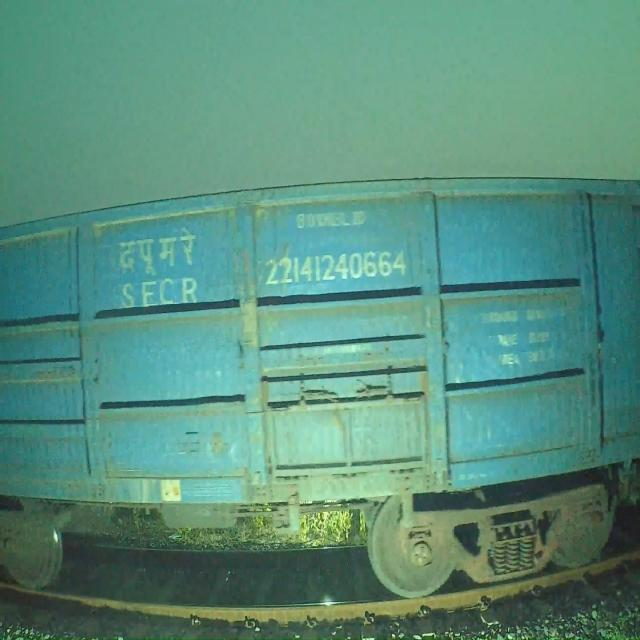WAgon-uic: (0, 177, 638, 600)
uic: (264, 245, 410, 288)
